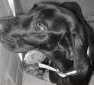Dog: (11, 1, 93, 81)
